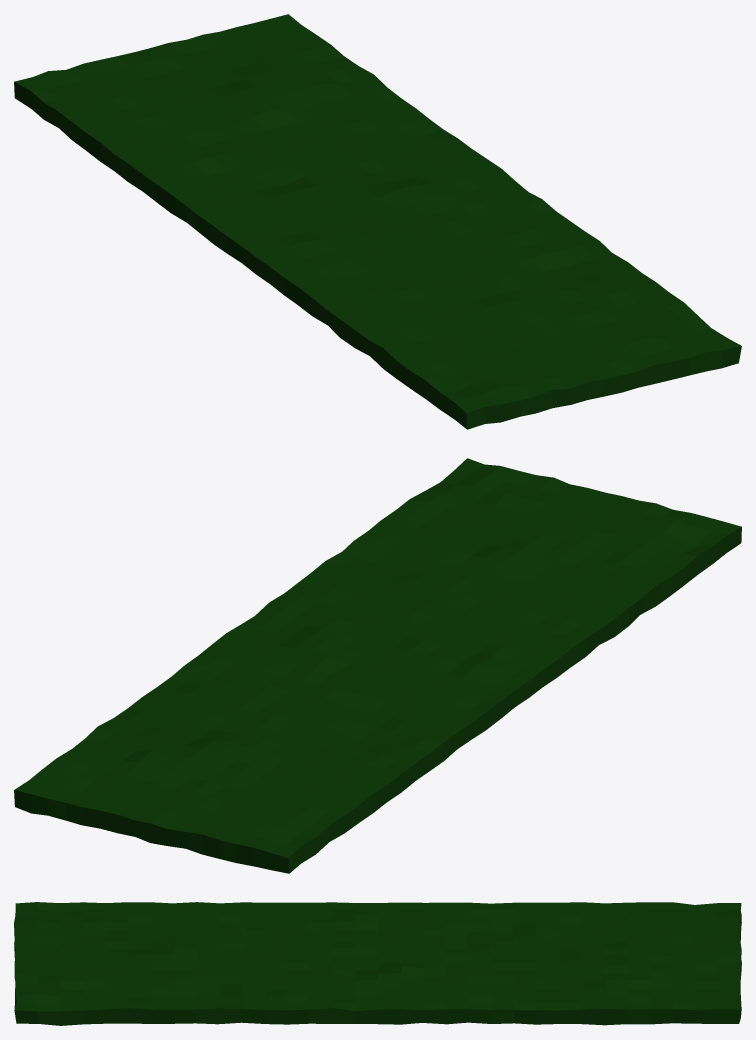
Rendered from ground.fbx.
3 renders of one model, top to bottom at view 1: azimuth 30°, elevation 25°; view 2: azimuth 150°, elevation 25°; view 3: azimuth 270°, elevation 25°, orthographic. The views are drawn at different scales.
Parts seen in each view (by area): view 1: Cube; view 2: Cube; view 3: Cube.
Part boxes in pixels (left/top/right/bottom): Cube: left=14, top=14, right=741, bottom=429; Cube: left=14, top=458, right=741, bottom=873; Cube: left=14, top=902, right=741, bottom=1025.
Size of the model in its own units: 1352 by 119 by 3859.
